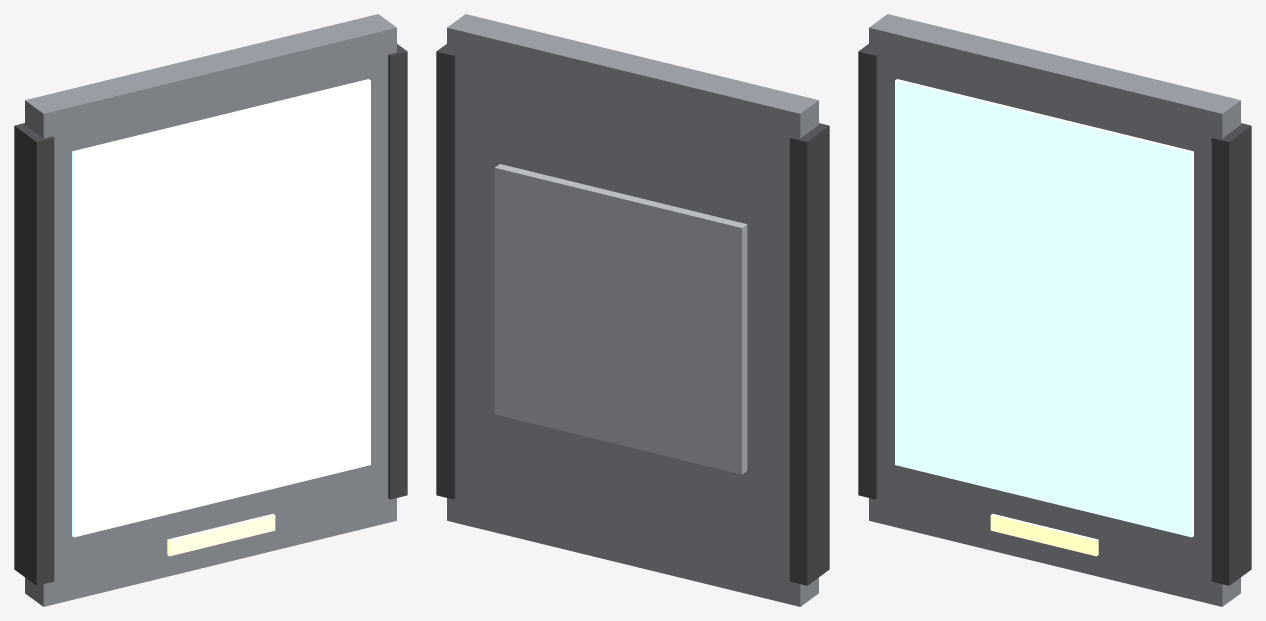
The model's file is prop_slate.glb.
3 renders of one model, left to right at view 1: azimuth 30°, elevation 25°; view 2: azimuth 150°, elevation 25°; view 3: azimuth 330°, elevation 25°, orthographic.
Parts seen in each view (by area): view 1: prop_slate; view 2: prop_slate; view 3: prop_slate.
Part boxes in pixels (left/top/right/bottom): prop_slate: left=14, top=14, right=407, bottom=606; prop_slate: left=436, top=14, right=829, bottom=606; prop_slate: left=858, top=14, right=1251, bottom=606.
Bounding box in the file's own units: 0.252 × 0.32 × 0.0306.
